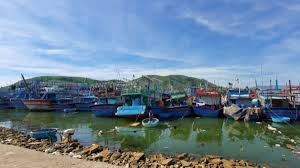tau_dansu: (260, 79, 297, 125), (223, 80, 264, 121), (113, 85, 153, 122), (154, 85, 190, 121), (89, 84, 122, 119), (192, 82, 221, 117)
